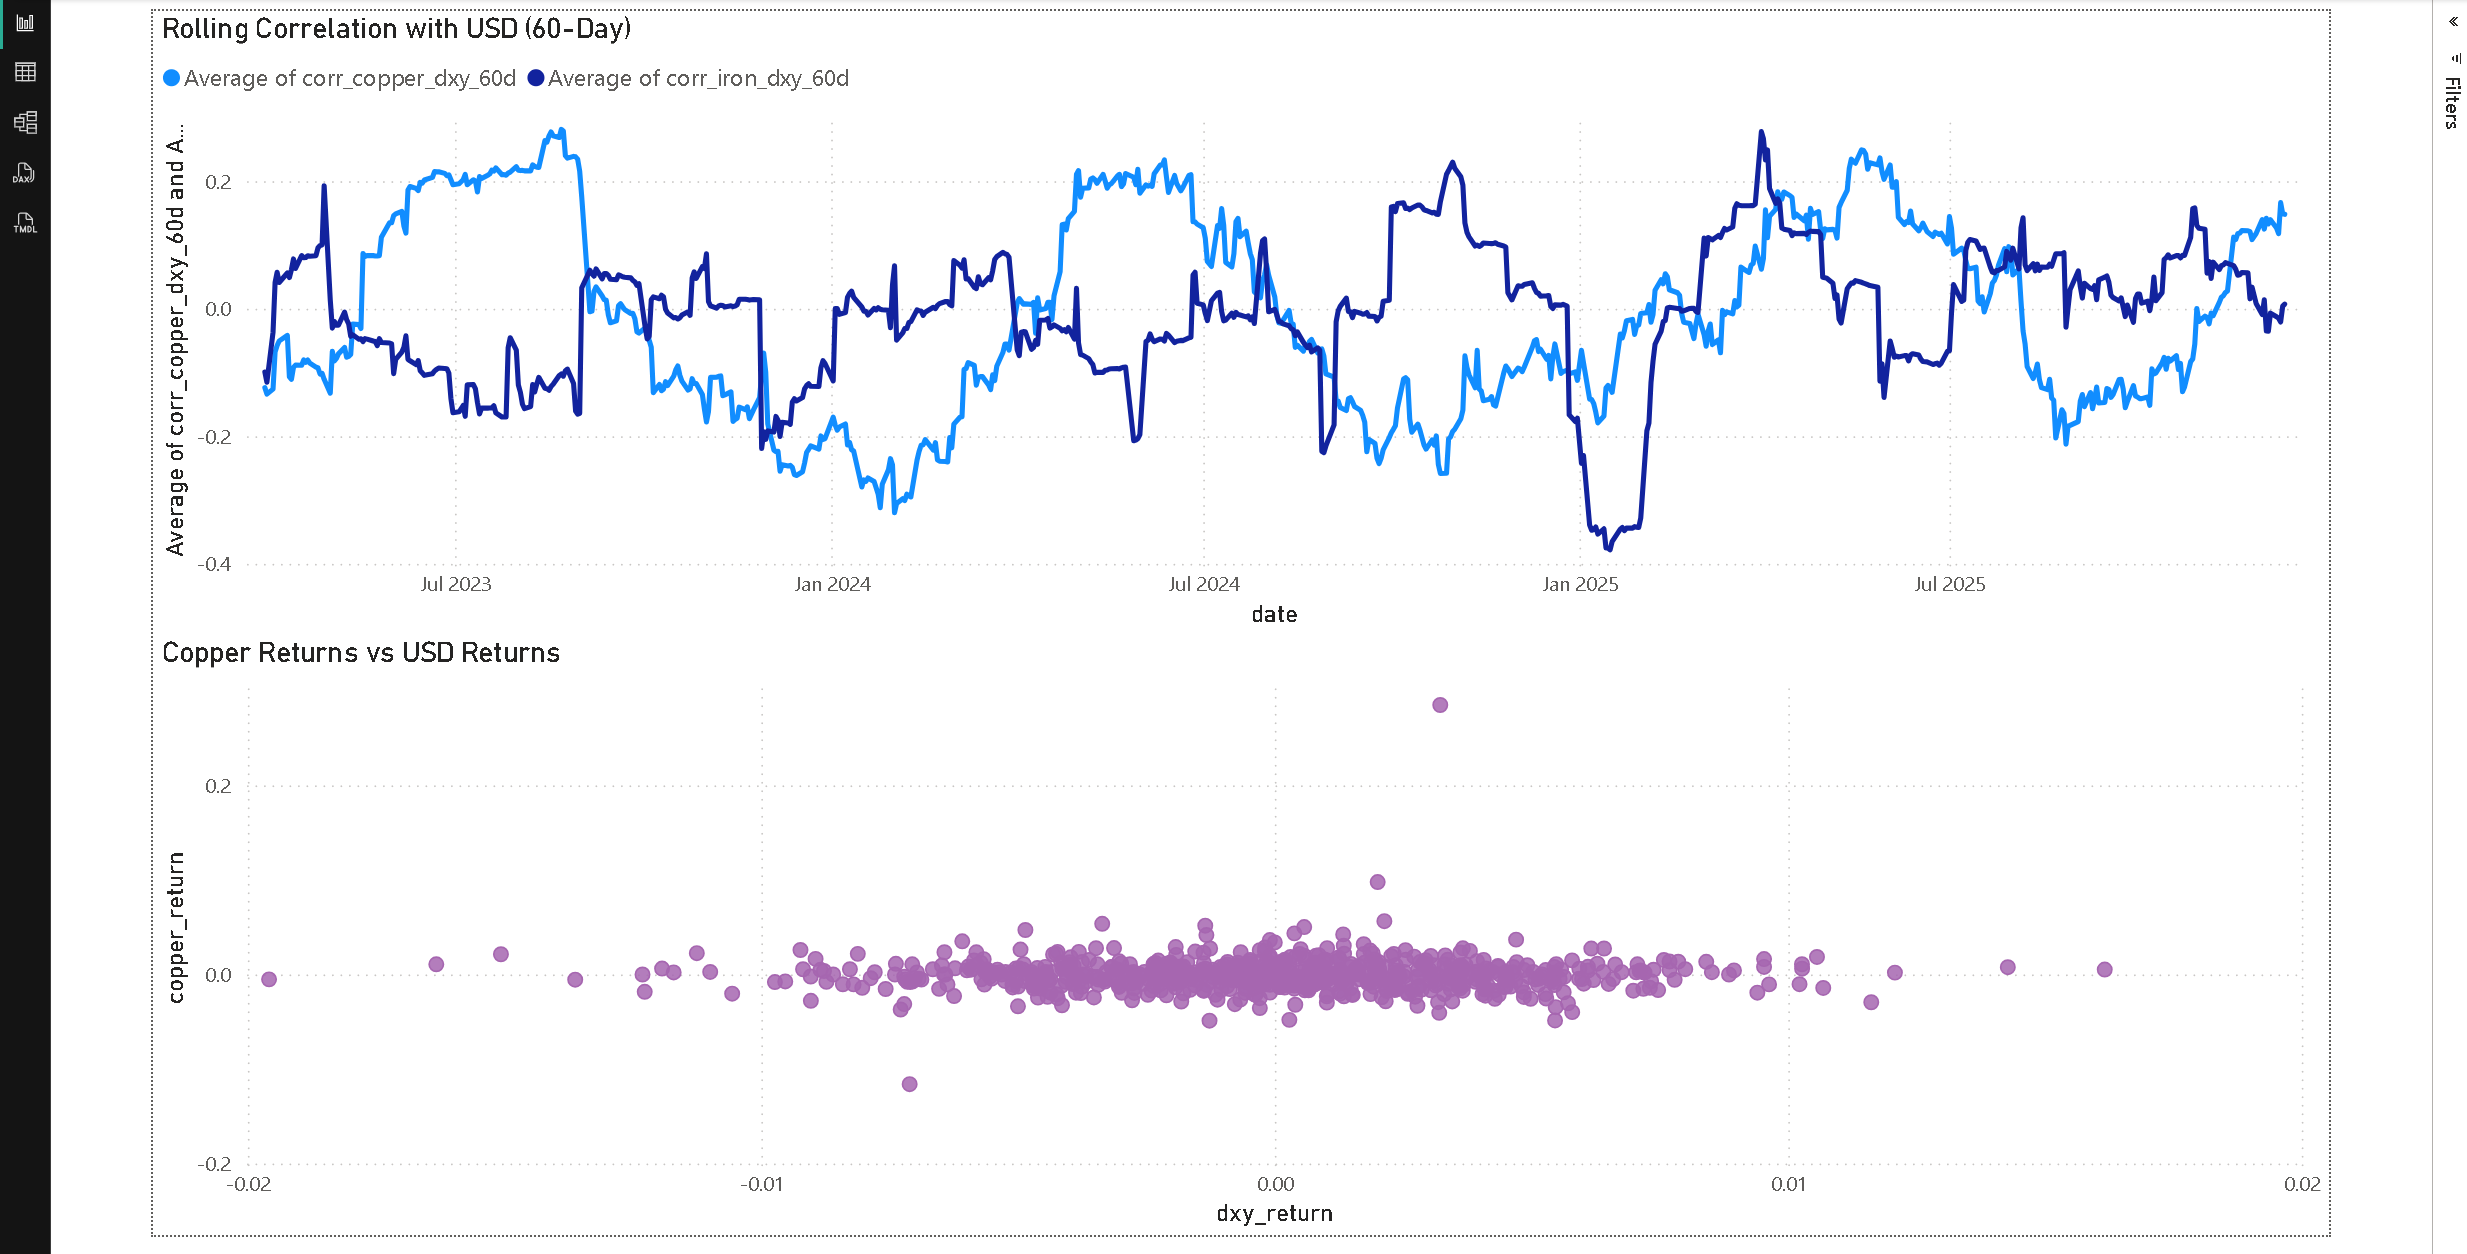

The dashboard page shown, as its layout file describes it:
{"tool":"powerbi","page":{"name":"USD Impact & Correlation","canvas":[1280,720],"ordinal":2},"visuals":[{"type":"lineChart","title":"Rolling Correlation with USD (60-Day)","fields":{"Y":["Avg(metal_fx_analysis.corr_copper_dxy_60d)","Avg(metal_fx_analysis.corr_iron_dxy_60d)"],"Category":["metal_fx_analysis.date"]},"box":[0,0,1280.2,366.9],"z":0},{"type":"scatterChart","title":"Copper Returns vs USD Returns","fields":{"X":["metal_fx_analysis.dxy_return"],"Y":["metal_fx_analysis.copper_return"]},"box":[0,366.9,1280.2,353.1],"z":1000}]}

Visuals, with their boxes on the page's 1280x720 design canvas (x1, y1, x2, y2). These are canvas units, not pixel positions in the 2467x1254 screenshot, which may show the page scaled, cropped or inside an application window:
"Rolling Correlation with USD (60-Day)" lineChart: l=0, t=0, r=1280, b=367
"Copper Returns vs USD Returns" scatterChart: l=0, t=367, r=1280, b=720
